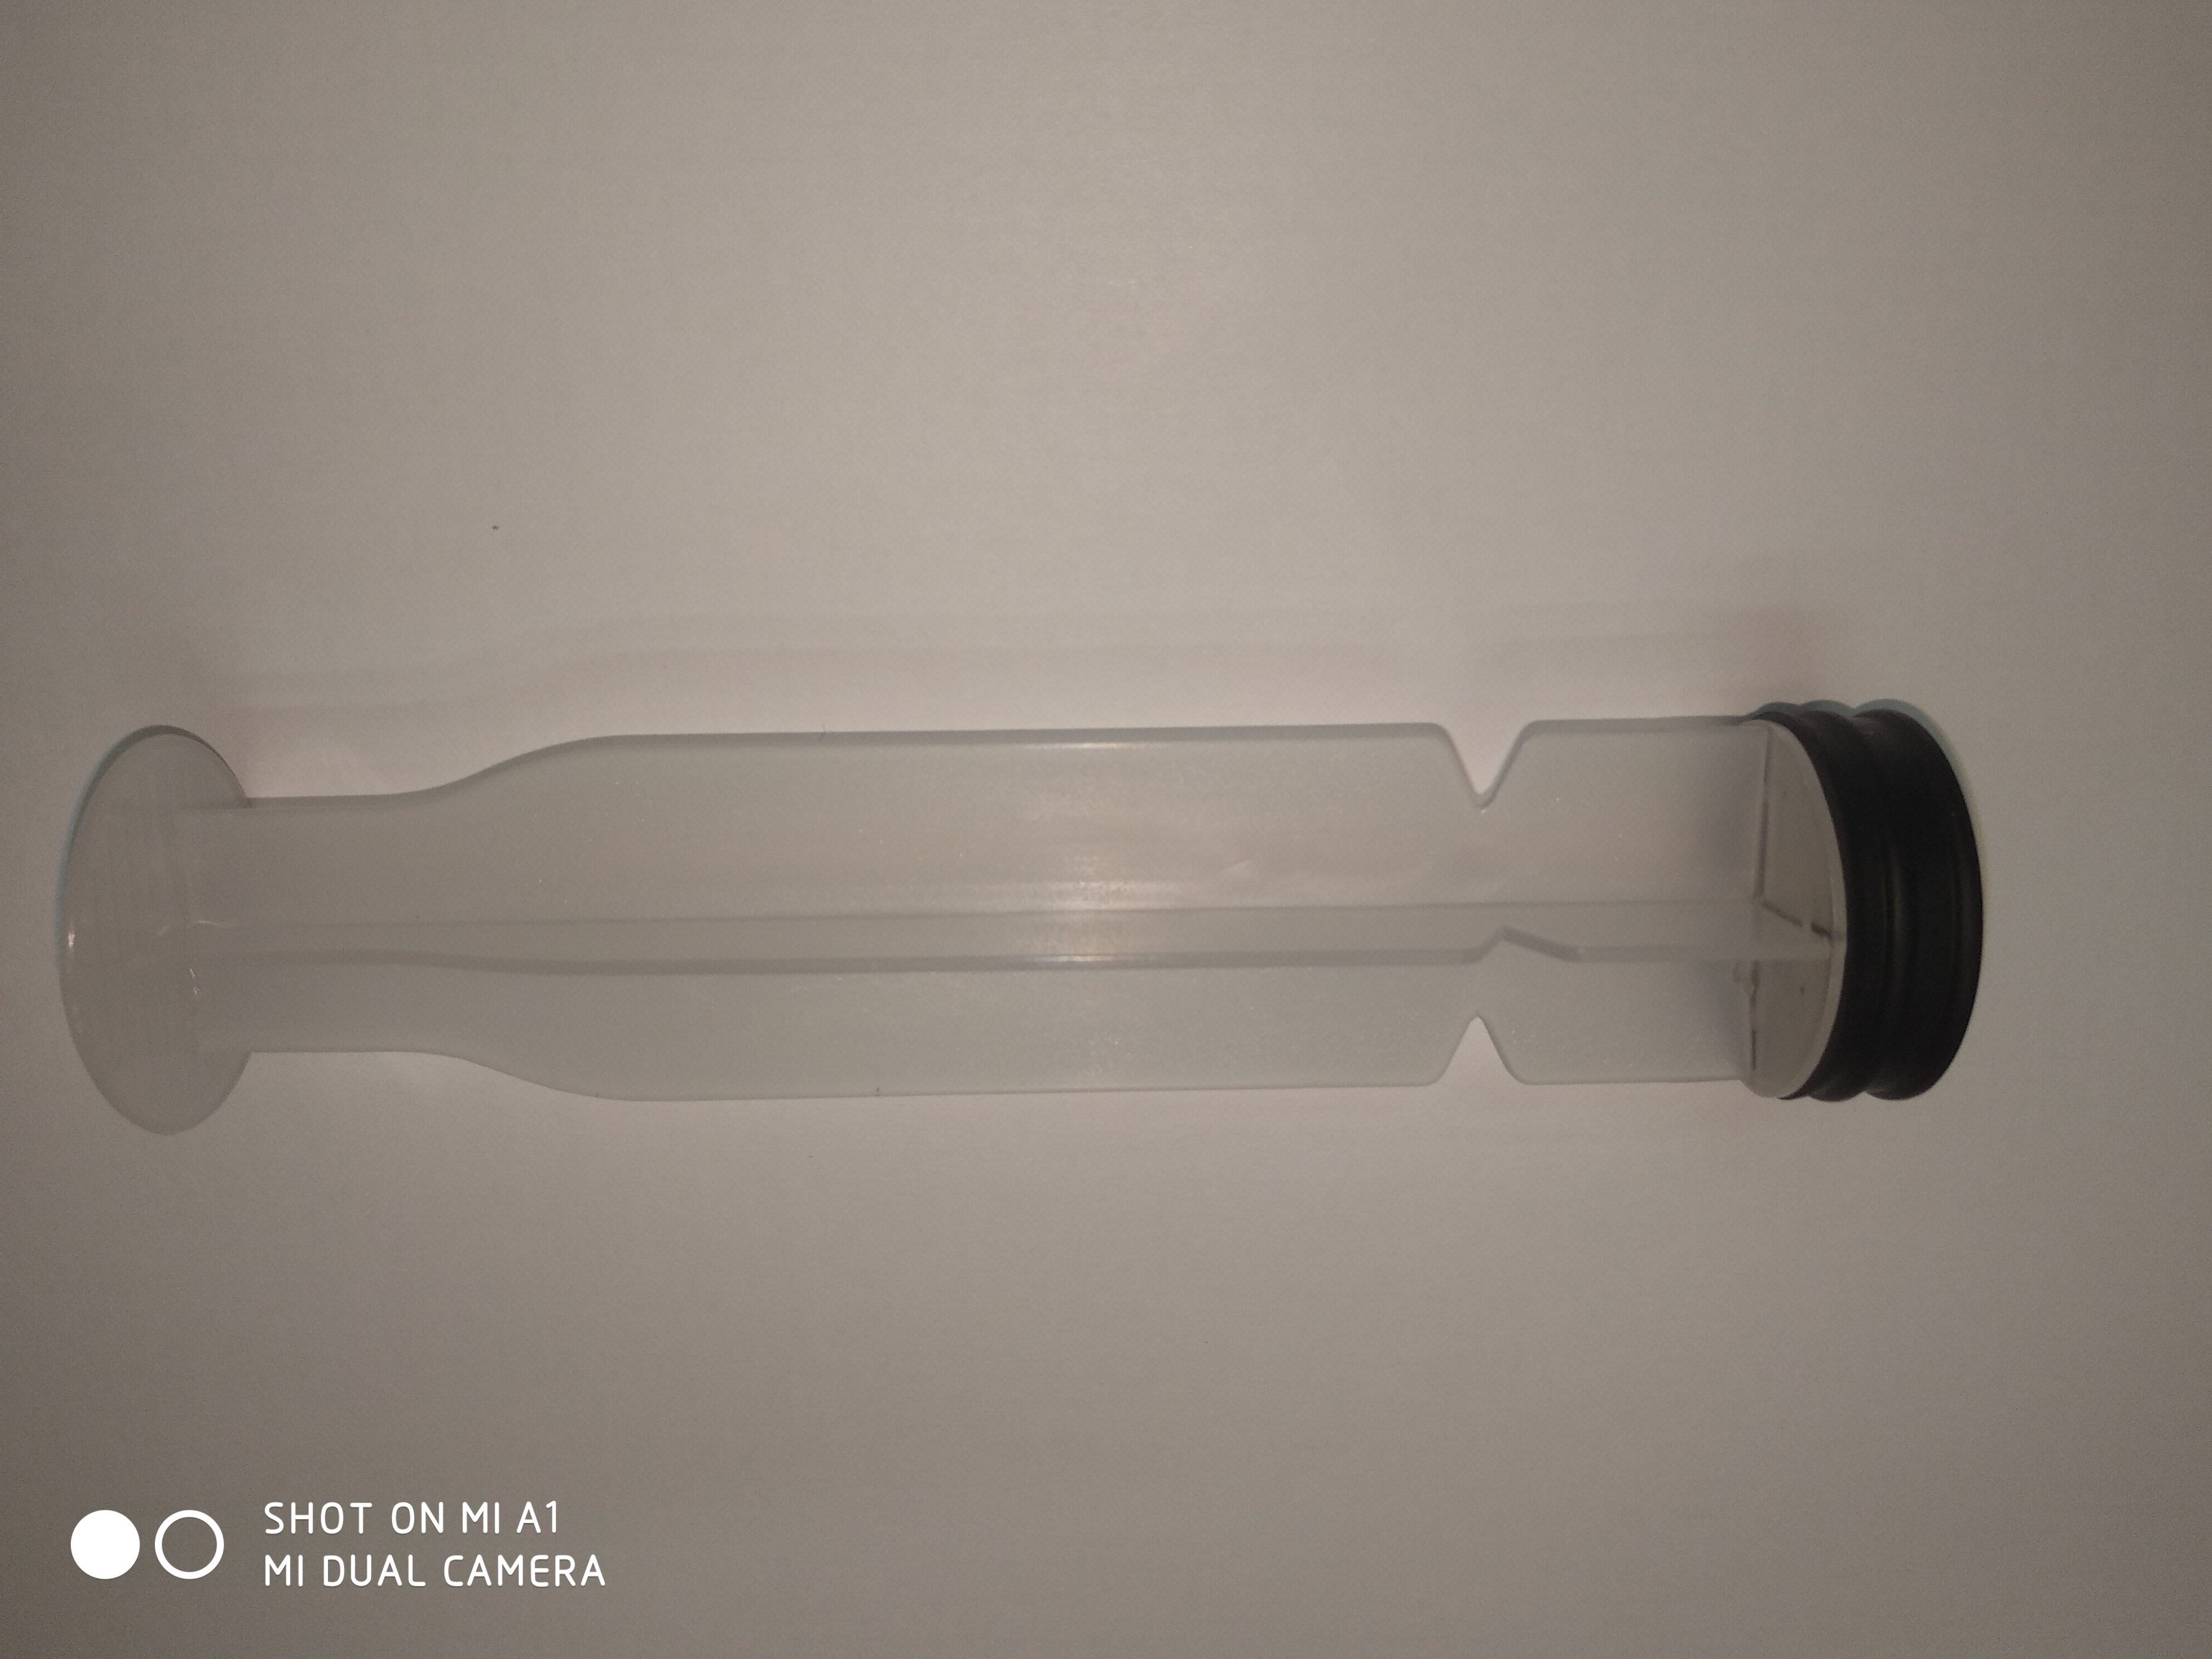plunger: (44, 699, 2000, 1152)
